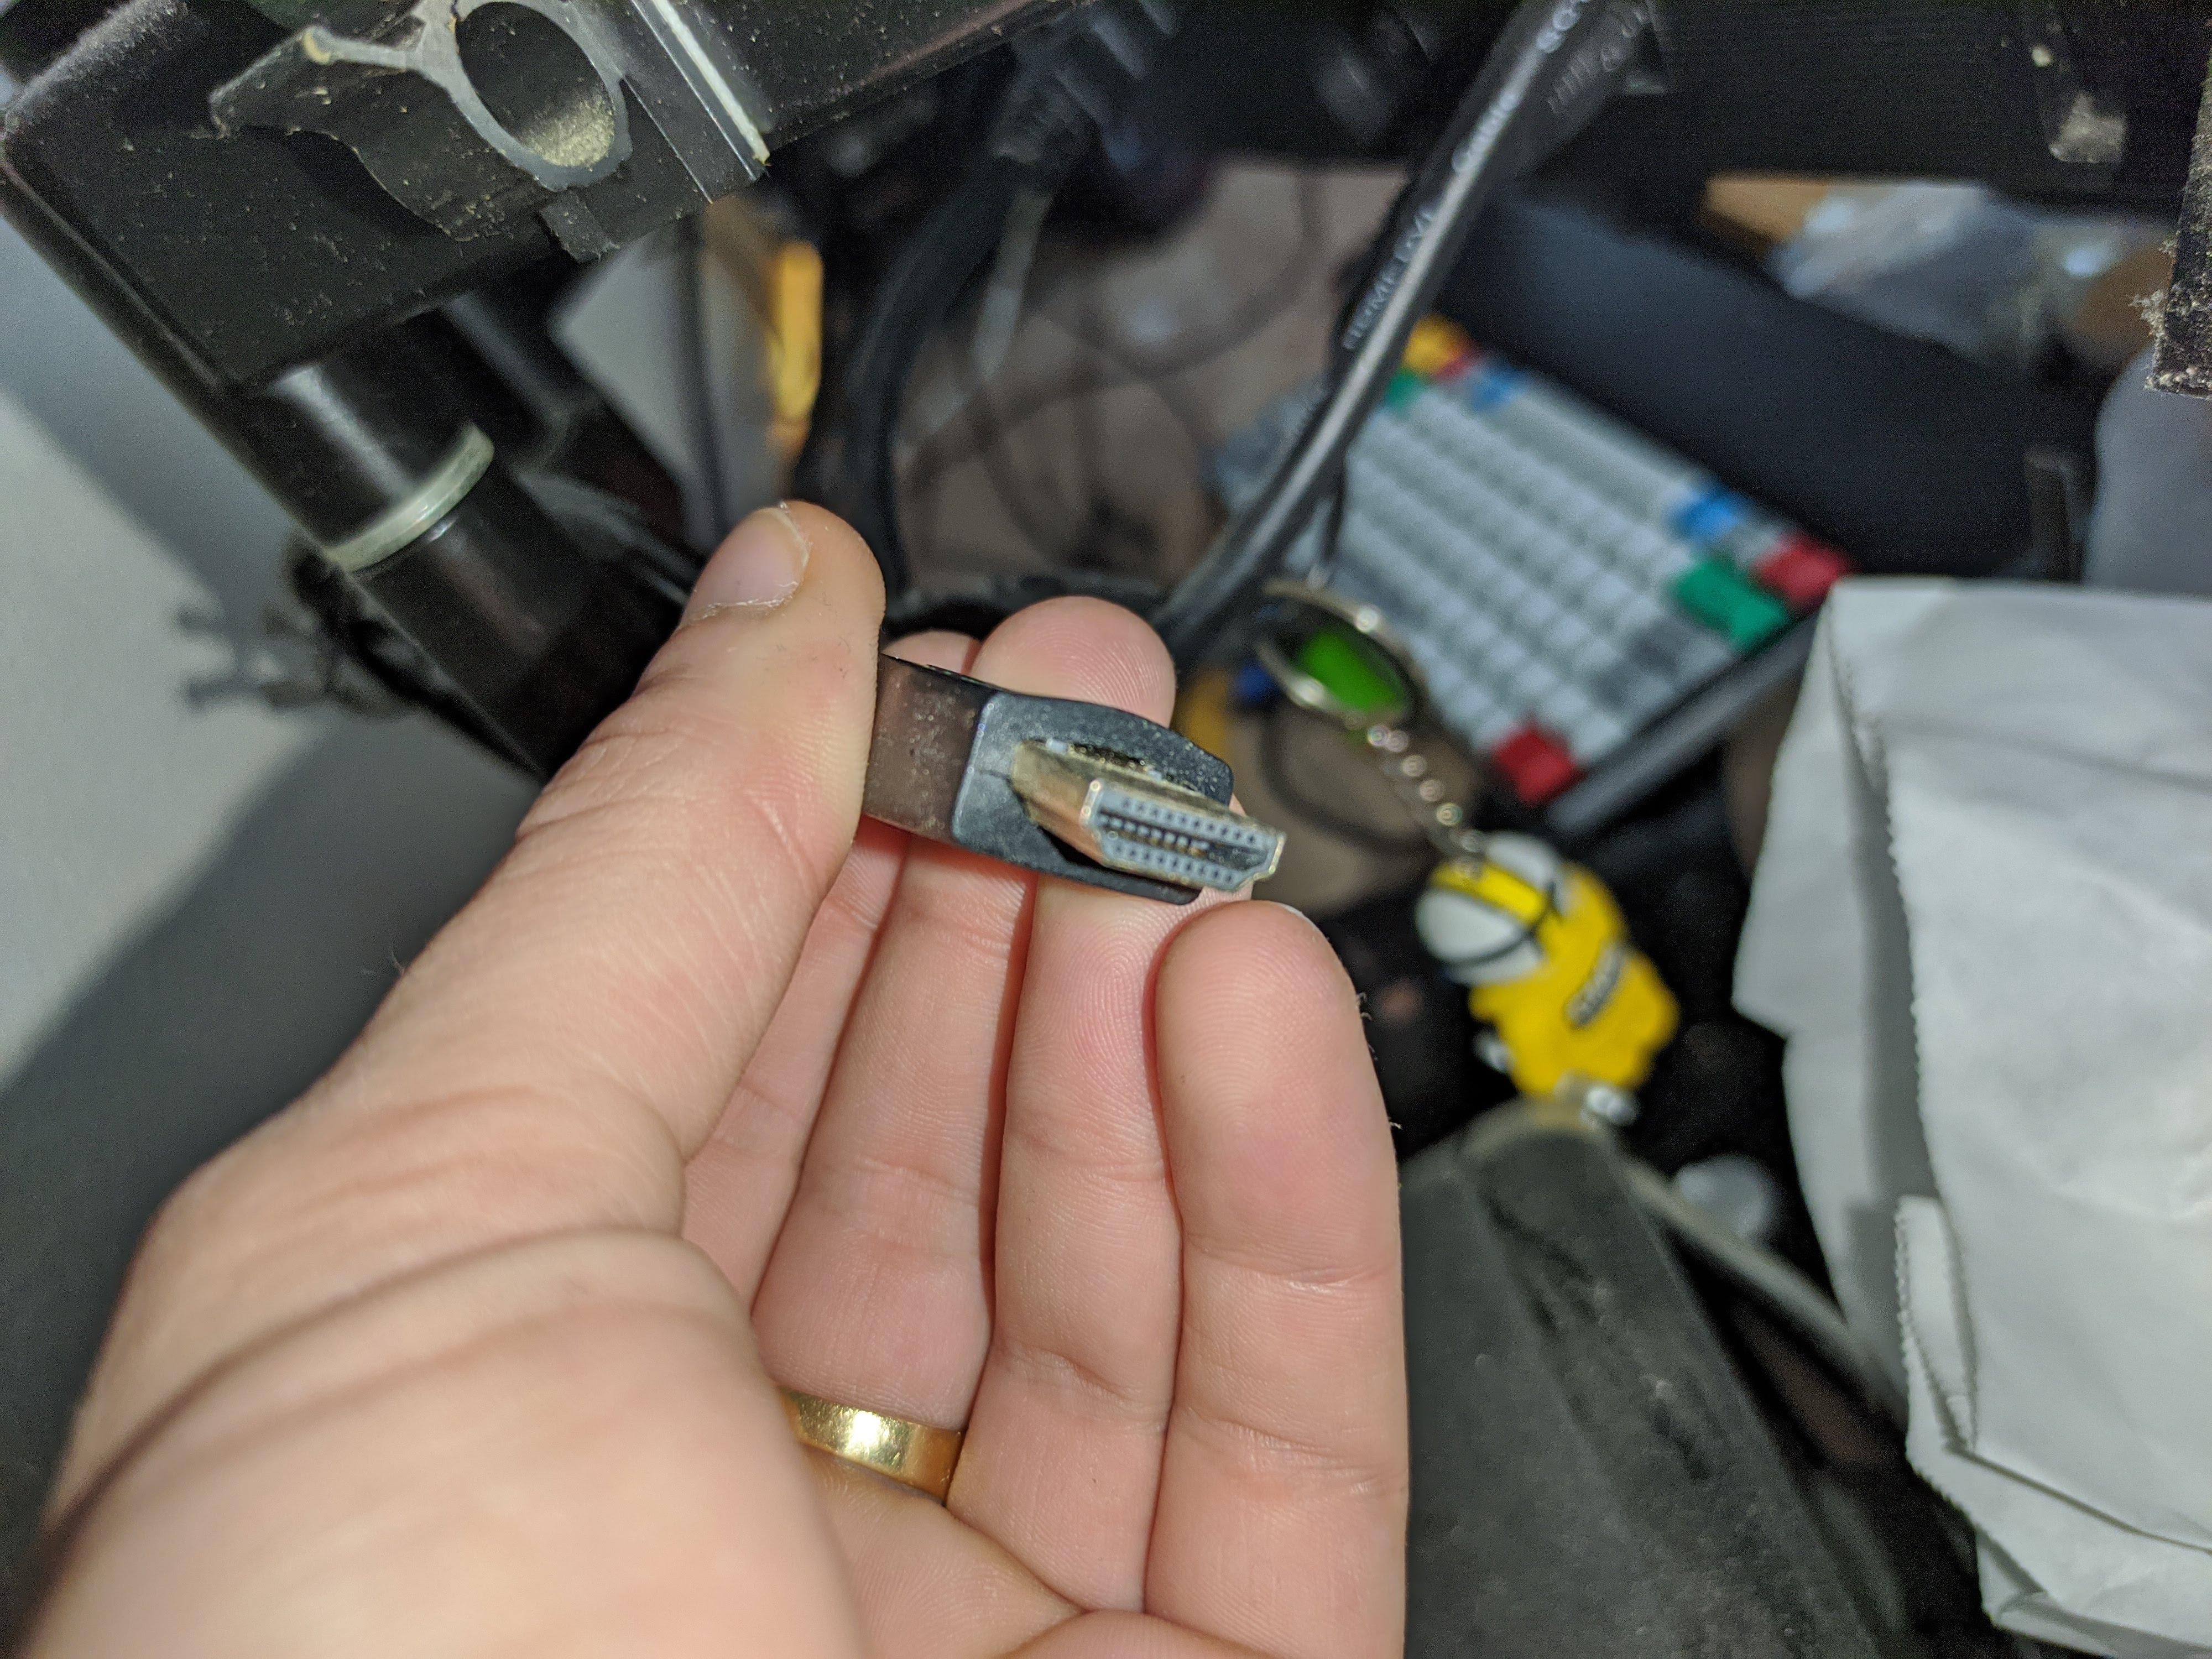hdmi_out: (1008, 734, 1292, 908)
